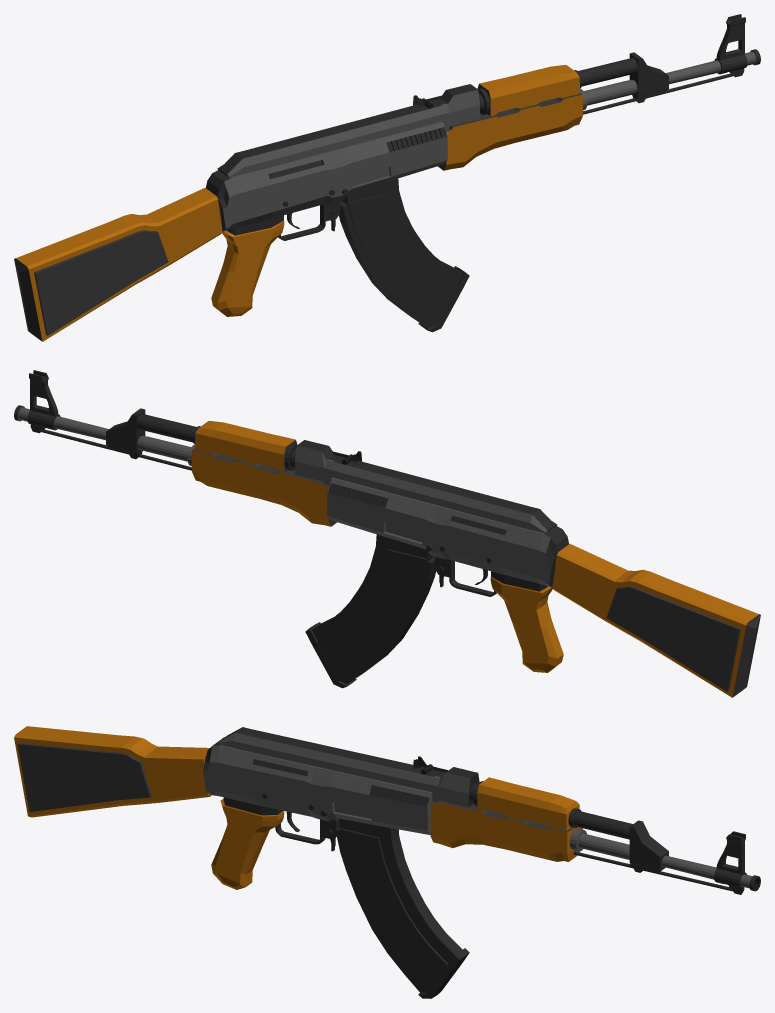
3 renders of one model, top to bottom at view 1: azimuth 30°, elevation 25°; view 2: azimuth 150°, elevation 25°; view 3: azimuth 330°, elevation 25°, orthographic.
Visible parts, largest first — view 1: Куб.001, Куб, Куб.007, Куб.002, Куб.004, Куб.006, Цилиндр.002, Куб.005, Куб.003, Цилиндр.001, Куб.009, Цилиндр.003; view 2: Куб.001, Куб, Куб.007, Куб.002, Куб.004, Куб.006, Цилиндр.002, Куб.005, Куб.003, Цилиндр.001, Куб.009, Цилиндр.003; view 3: Куб.001, Куб, Куб.007, Куб.002, Куб.004, Куб.006, Цилиндр.002, Куб.005, Куб.003, Цилиндр.001, Куб.009, Цилиндр.003.
Boxes of the visible parts, x1,y1,x2,y2 form: Куб.001: (14, 188, 222, 341); Куб: (206, 121, 447, 231); Куб.007: (339, 178, 469, 332); Куб.002: (217, 84, 479, 177); Куб.004: (438, 92, 582, 170); Куб.006: (211, 215, 284, 316); Цилиндр.002: (580, 14, 760, 110); Куб.005: (477, 65, 580, 116); Куб.003: (629, 52, 668, 103); Цилиндр.001: (574, 58, 637, 88); Куб.009: (278, 201, 339, 240); Цилиндр.003: (583, 73, 735, 114); Куб.001: (552, 544, 760, 697); Куб: (327, 477, 568, 587); Куб.007: (305, 534, 435, 688); Куб.002: (295, 440, 557, 533); Куб.004: (192, 448, 336, 526); Куб.006: (490, 571, 563, 672); Цилиндр.002: (14, 370, 194, 466); Куб.005: (194, 421, 297, 472); Куб.003: (106, 408, 145, 459); Цилиндр.001: (137, 414, 200, 444); Куб.009: (435, 557, 496, 596); Цилиндр.003: (39, 429, 191, 470); Куб.001: (14, 726, 211, 817); Куб: (203, 737, 432, 834); Куб.007: (335, 818, 469, 998); Куб.002: (217, 727, 479, 807); Куб.004: (430, 800, 582, 861); Куб.006: (211, 797, 284, 889); Цилиндр.002: (569, 828, 760, 894); Куб.005: (477, 777, 579, 830); Куб.003: (629, 820, 668, 872); Цилиндр.001: (568, 808, 632, 839); Куб.009: (275, 818, 339, 851); Цилиндр.003: (573, 851, 733, 891).
Bounding box in the file's own units: 473 × 145 × 25.82.
